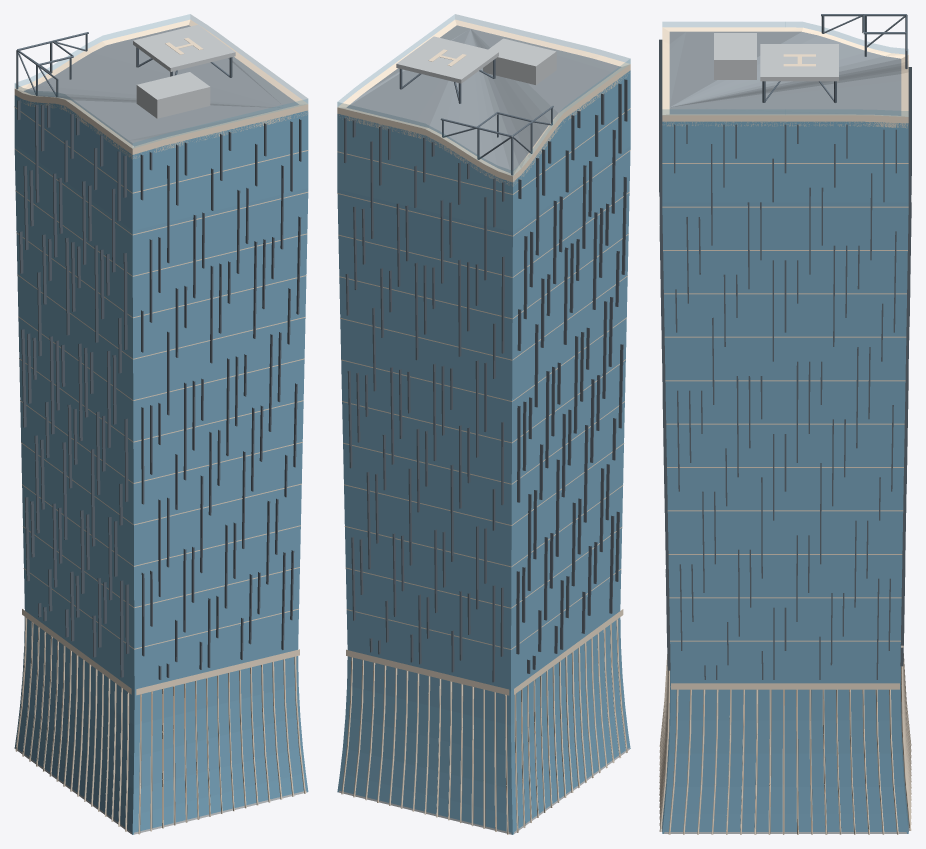
Rendered from tokyo-shibuya-scramble-square.glb.
The picture shows the model from 3 angles, left to right: view 1: azimuth 30°, elevation 25°; view 2: azimuth 150°, elevation 25°; view 3: azimuth 270°, elevation 25°; orthographic projection. The views are drawn at different scales.
Visible parts, largest first — view 1: Shibuya Scramble Square; view 2: Shibuya Scramble Square; view 3: Shibuya Scramble Square.
Boxes of the visible parts, x1=… form: Shibuya Scramble Square: x1=14, y1=14, x2=308, y2=834; Shibuya Scramble Square: x1=337, y1=14, x2=630, y2=834; Shibuya Scramble Square: x1=659, y1=14, x2=911, y2=834.
Size of the model in its own units: 61.2 by 230 by 70.8.
